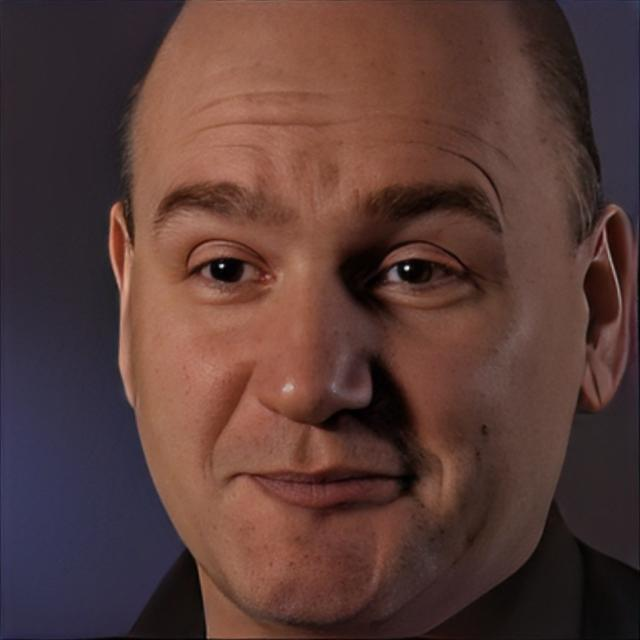Contempt: (128, 0, 587, 626)
